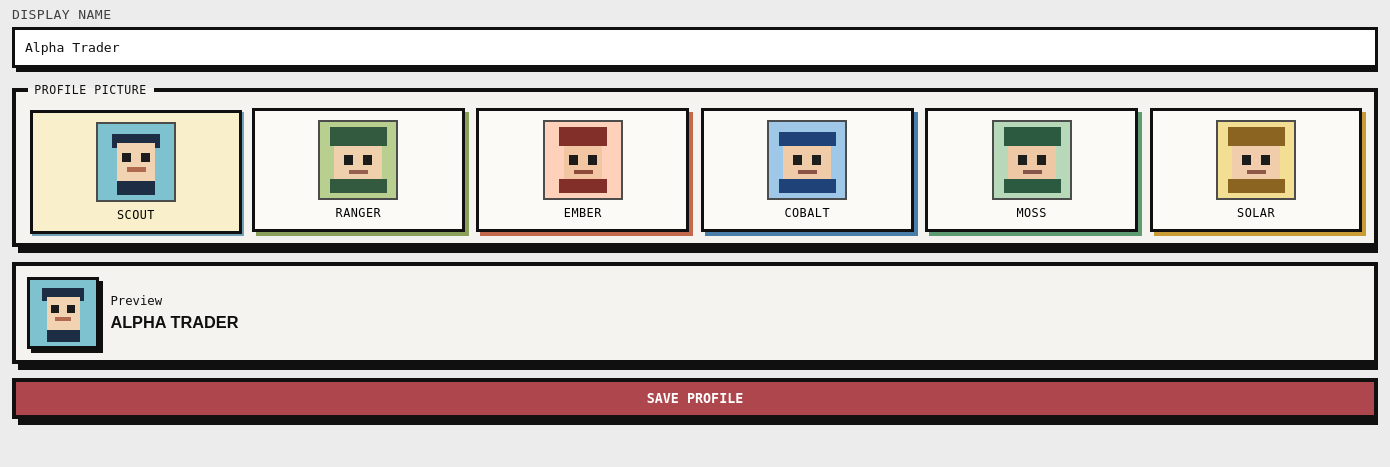
ProfileEditor › normalizes the display name, saves the selected avatar, and syncs auth metadata
Replace the text in the field labelled "Display name" with "  Michael   Callow  " at (695, 48), box x1=12 y1=27 x2=1378 y2=68
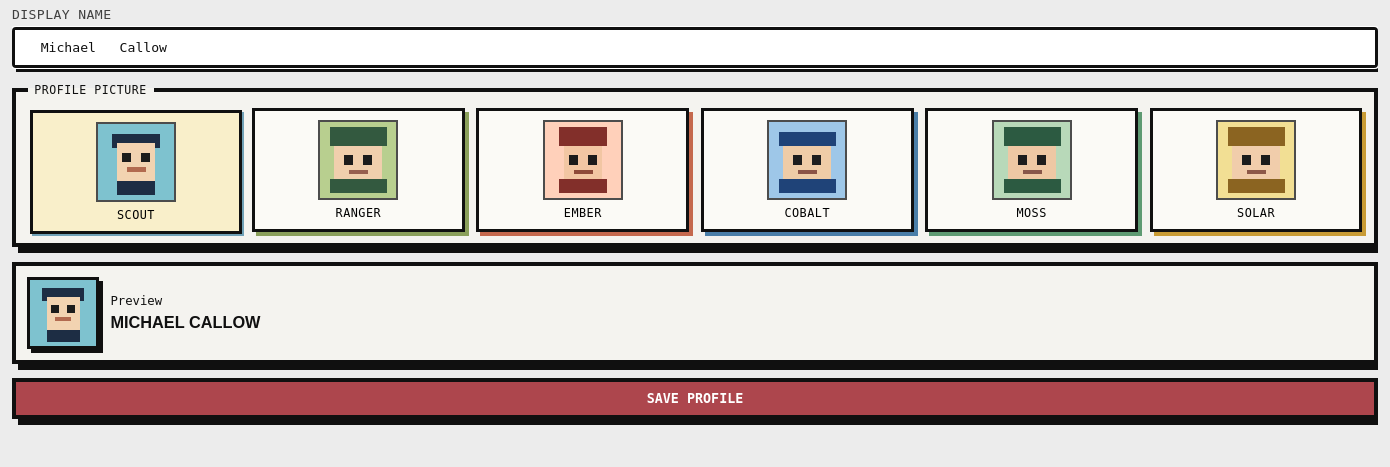
Click the button "Ranger" at (358, 170), box x1=252 y1=108 x2=465 y2=232
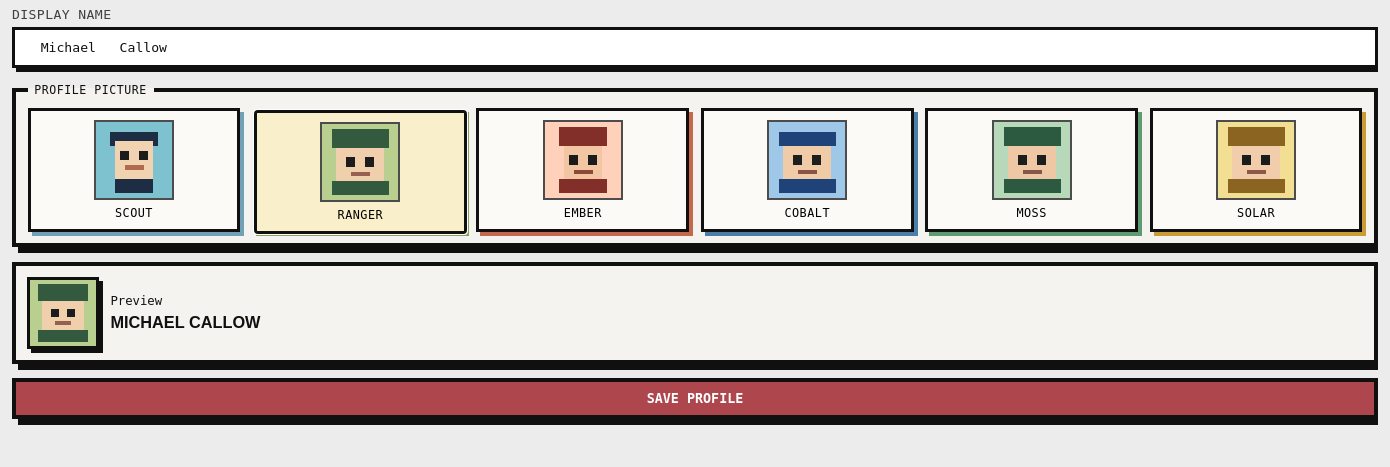
Click the button "Save profile" at (695, 399), box x1=12 y1=378 x2=1378 y2=419
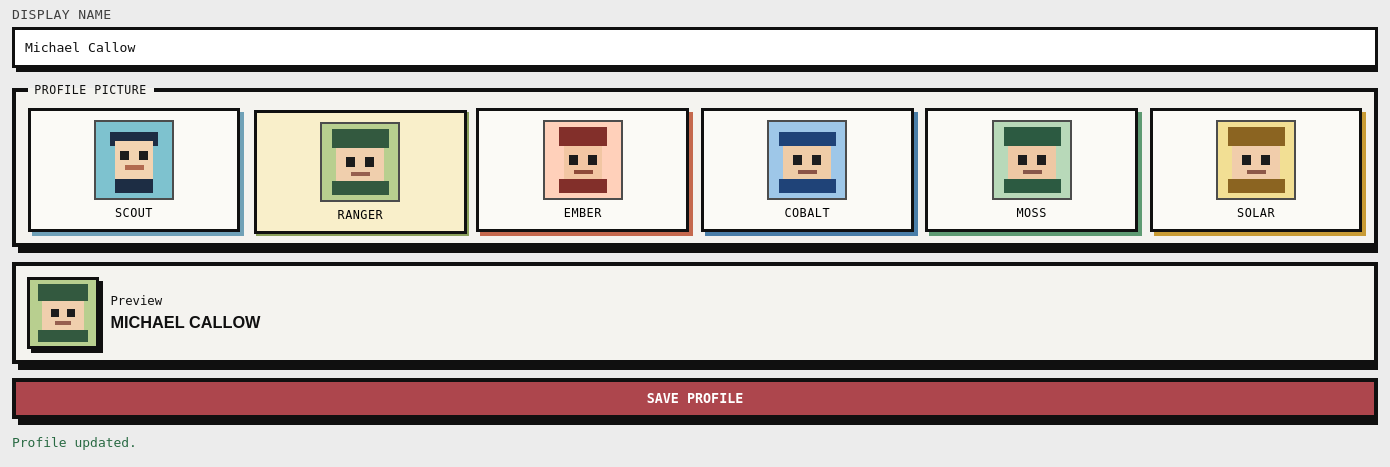
Check: the text "Profile updated." is shown, box x1=12 y1=435 x2=137 y2=450
